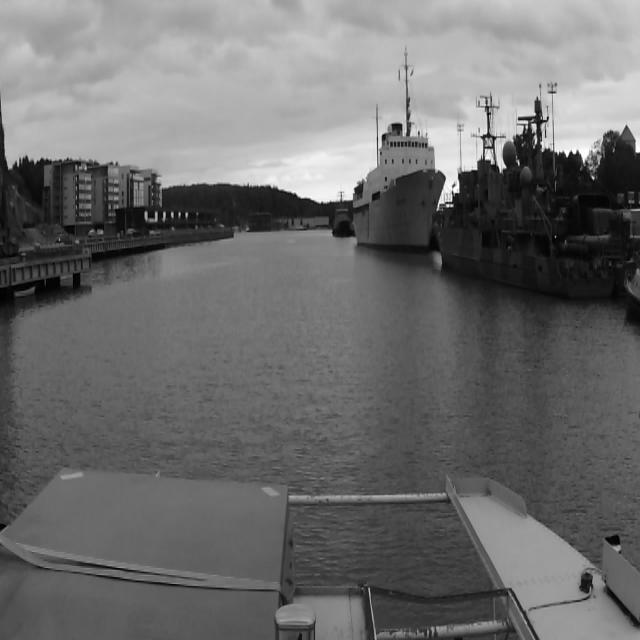ship: (444, 90, 618, 304), (351, 45, 445, 252), (332, 190, 348, 243)
